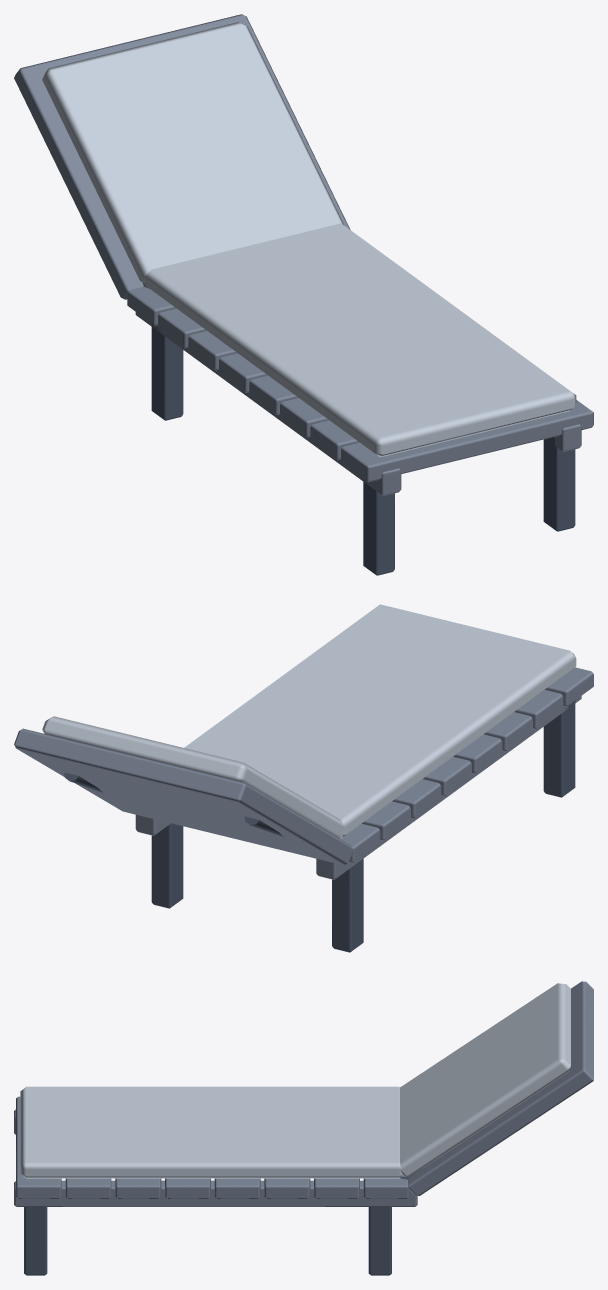
Rendered from garden-lounger-lite.glb.
3 views of the same model, one above another, from view 1: azimuth 30°, elevation 25°; view 2: azimuth 150°, elevation 25°; view 3: azimuth 270°, elevation 25° (orthographic). The views are drawn at different scales.
Visible parts, largest first — view 1: garden-lounger; view 2: garden-lounger; view 3: garden-lounger.
Boxes of the visible parts, x1,y1,x2,y2 form: garden-lounger: [14, 14, 593, 575]; garden-lounger: [14, 604, 593, 952]; garden-lounger: [14, 981, 593, 1275].
Bounding box in the file's own units: 0.72 × 0.8 × 1.95.
